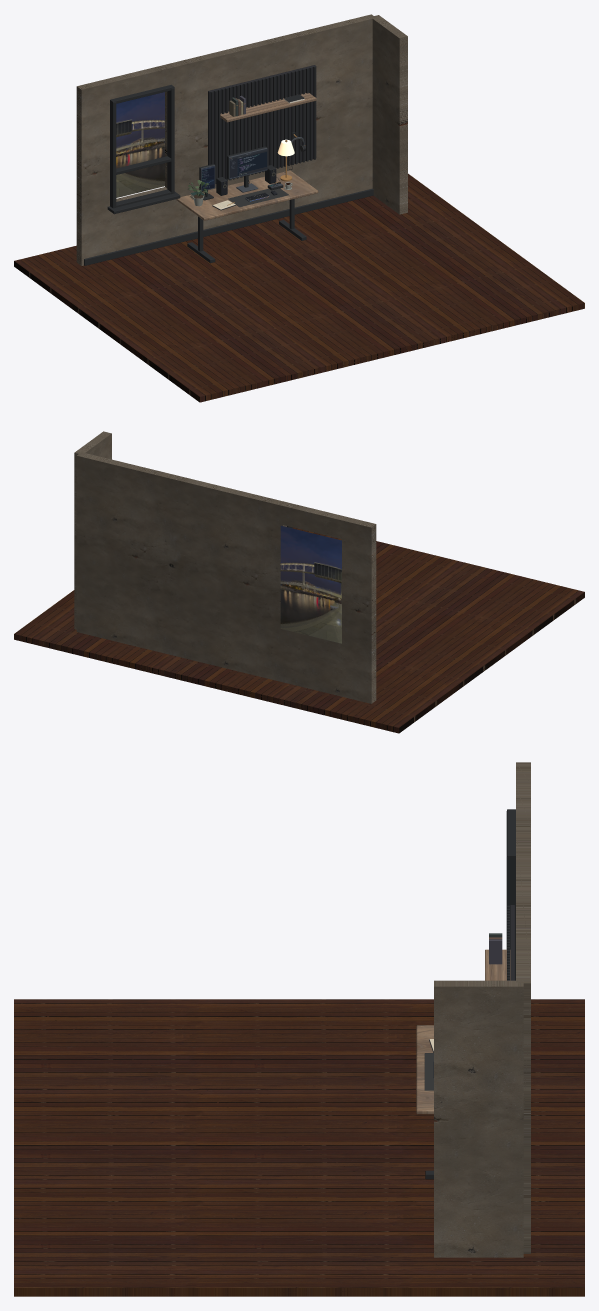
Rendered from hero-studio-night.glb.
3 renders of one model, top to bottom at view 1: azimuth 30°, elevation 25°; view 2: azimuth 150°, elevation 25°; view 3: azimuth 270°, elevation 25°, orthographic. The views are drawn at different scales.
Visible parts, largest first — view 1: Oak plank floor, Grey plaster, Graphite powder coat, City at night, Acoustic felt, Smoked walnut, Editor glass, Anodized metal, Charcoal upholstery; view 2: Grey plaster, Oak plank floor, City at night; view 3: Oak plank floor, Grey plaster, Smoked walnut, Graphite powder coat.
Boxes of the visible parts, x1,y1,x2,y2 form: Oak plank floor: (14,173,584,402); Grey plaster: (76,14,407,265); Graphite powder coat: (84,66,373,265); City at night: (116,92,164,197); Acoustic felt: (208,65,316,179); Smoked walnut: (176,93,318,220); Editor glass: (230,149,267,178); Anodized metal: (200,137,304,201); Charcoal upholstery: (228,138,303,207); Grey plaster: (74,431,376,703); Oak plank floor: (14,527,584,733); City at night: (280,525,341,643); Oak plank floor: (14,999,584,1296); Grey plaster: (434,762,530,1257); Smoked walnut: (416,949,510,1114); Graphite powder coat: (425,809,515,1179).
Size of the model in its own units: 6.4 by 2.89 by 5.35.
Materials: 35 (9 with a texture image).
